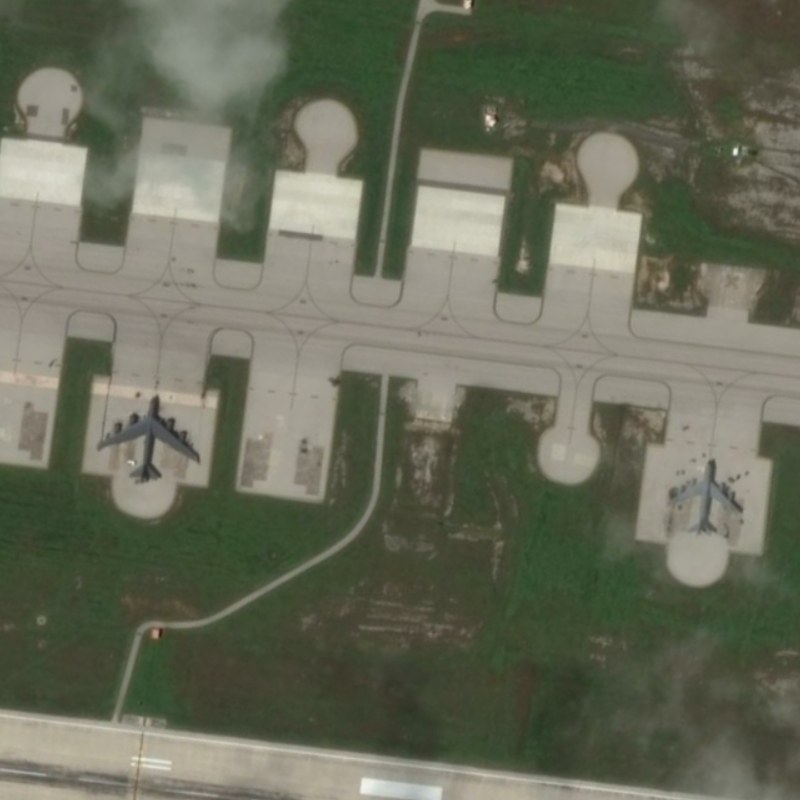A14: (665, 456, 747, 535)
A8: (90, 392, 203, 482)
